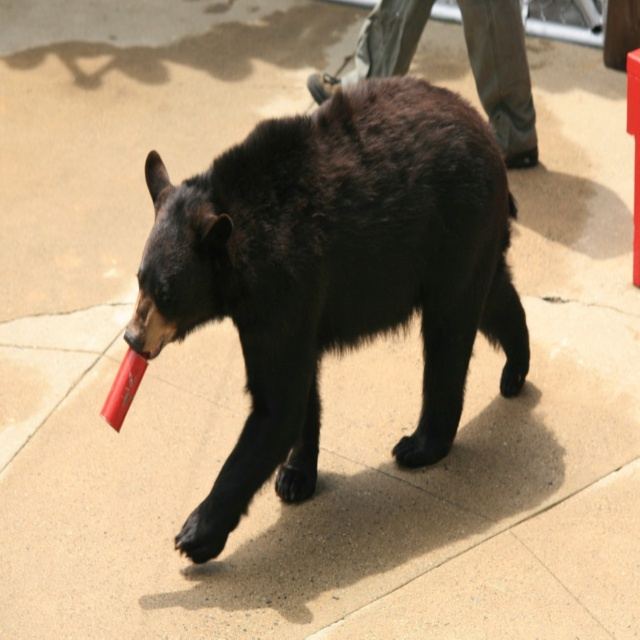Bear: (120, 77, 530, 568)
